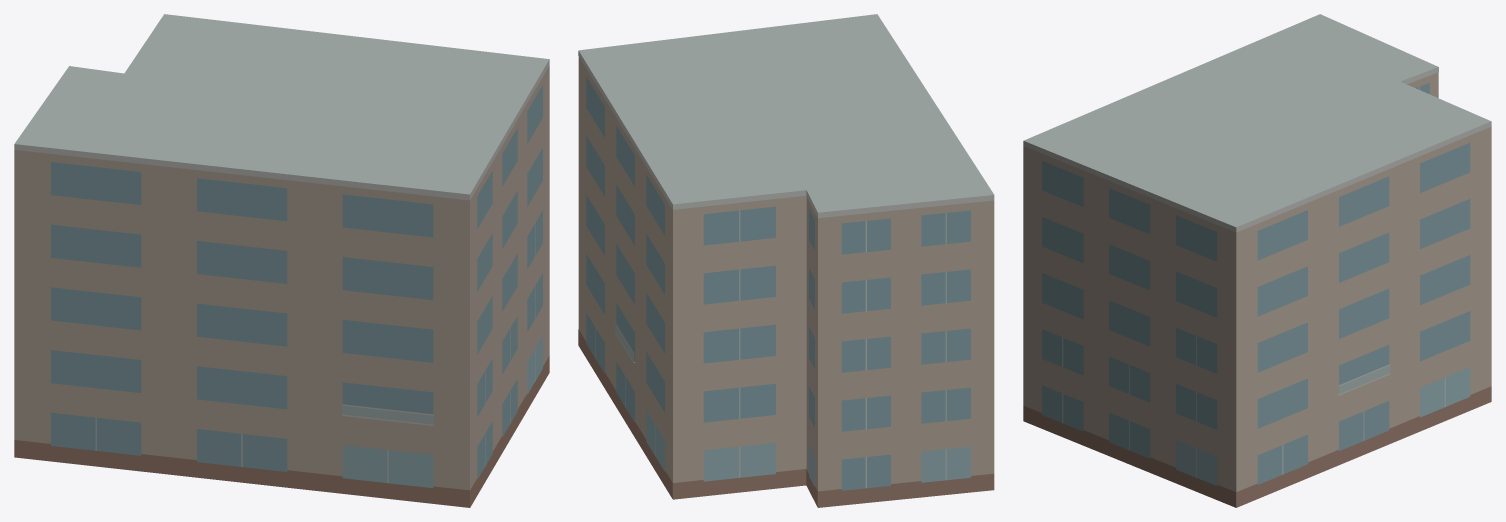
The model's file is survey-upis-33022924.glb.
3 views of the same model, side by side, from view 1: azimuth 30°, elevation 25°; view 2: azimuth 150°, elevation 25°; view 3: azimuth 270°, elevation 25° (orthographic). The views are drawn at different scales.
Visible parts, largest first — view 1: survey-upis-33022924.tmp; view 2: survey-upis-33022924.tmp; view 3: survey-upis-33022924.tmp.
Part boxes in pixels (left/top/right/bottom): survey-upis-33022924.tmp: left=14, top=14, right=549, bottom=507; survey-upis-33022924.tmp: left=578, top=14, right=994, bottom=507; survey-upis-33022924.tmp: left=1023, top=14, right=1491, bottom=507.
Size of the model in its own units: 21.38 by 13.1 by 19.82.
